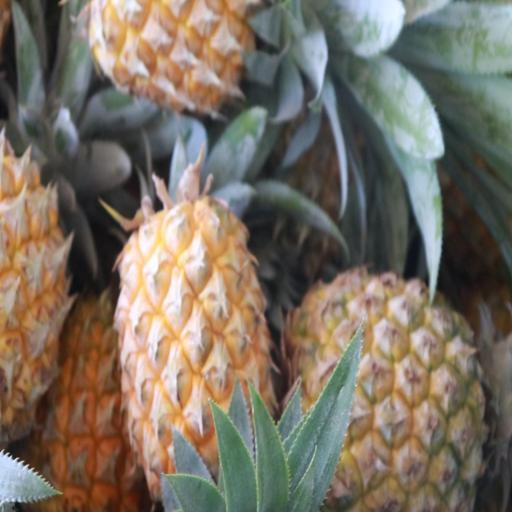Pineapple - v8 v1: (292, 269, 492, 512), (121, 204, 276, 512), (86, 0, 322, 128), (30, 295, 138, 512)
